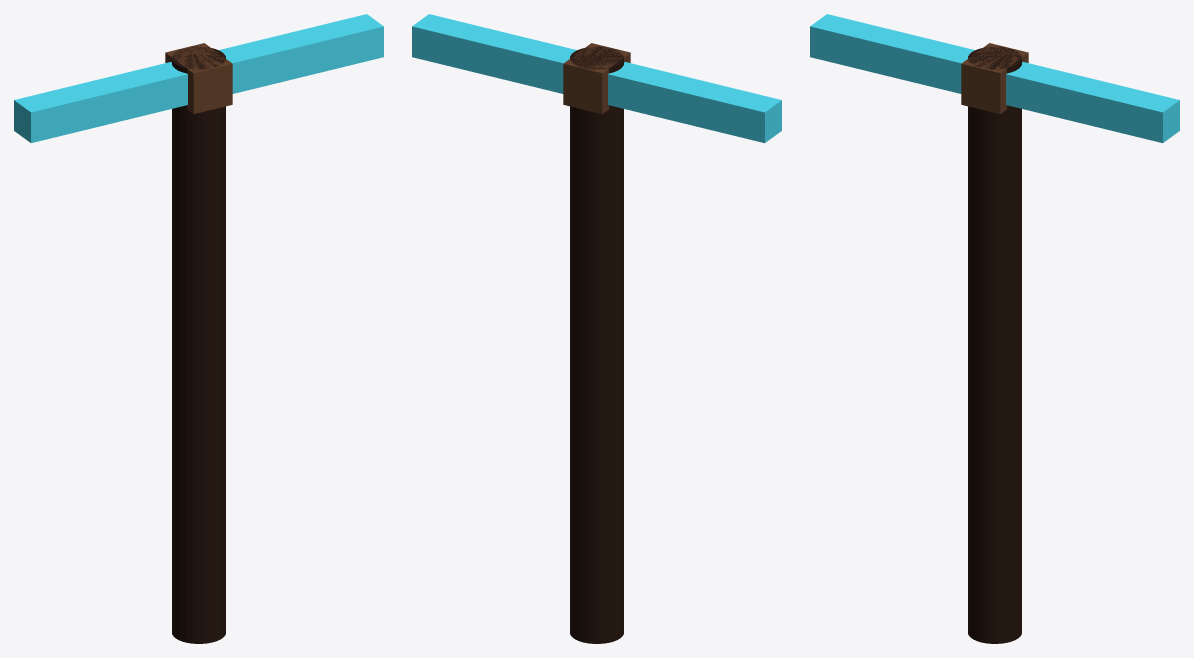
File: pickaxe_diamond.obj
3 renders of one model, left to right at view 1: azimuth 30°, elevation 25°; view 2: azimuth 150°, elevation 25°; view 3: azimuth 330°, elevation 25°, orthographic.
Parts seen in each view (by area): view 1: Handle; view 2: Handle; view 3: Handle.
Boxes of the visible parts, x1,y1,x2,y2 form: Handle: (14,14,383,643); Handle: (412,14,781,643); Handle: (810,14,1179,643).
Size of the model in its own units: 1.8 by 2.8 by 0.25.
